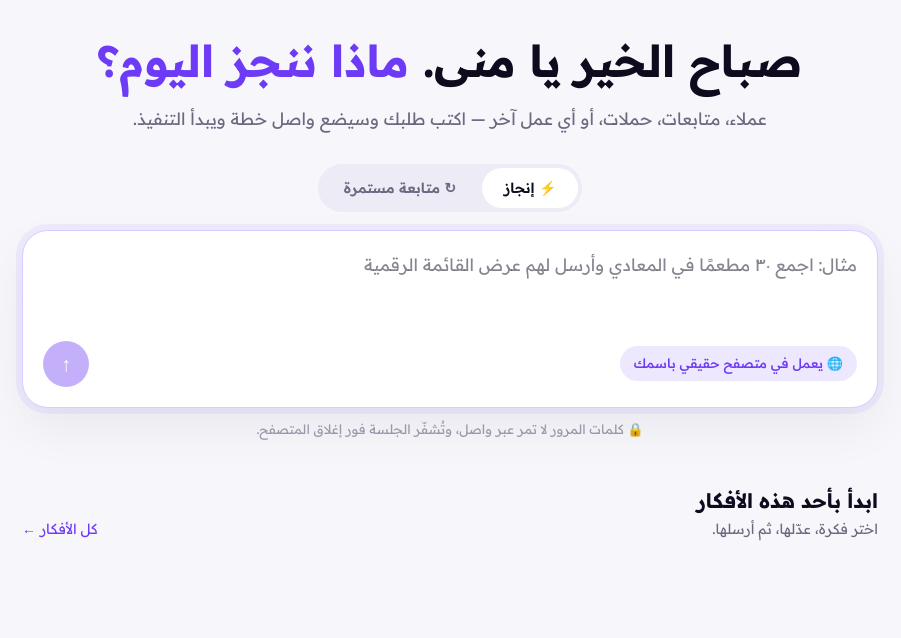
Test: shows the backend error and stays on the page when the run cannot be created
Replace the text in the text box named "طلبك" with "مهمة": (450, 292) [43, 250, 857, 334]
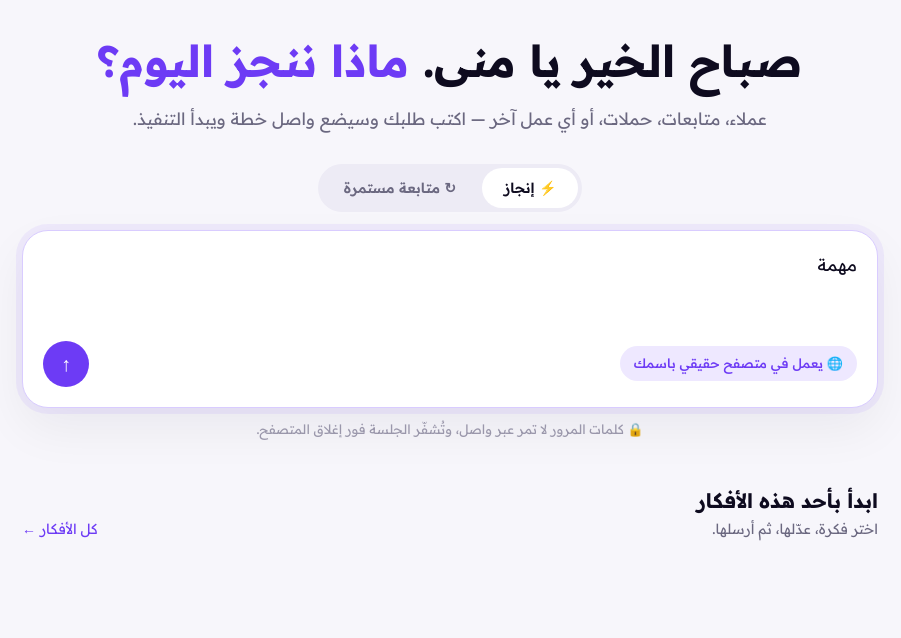
Click the button named "أرسل الطلب": (66, 364) [43, 340, 89, 386]
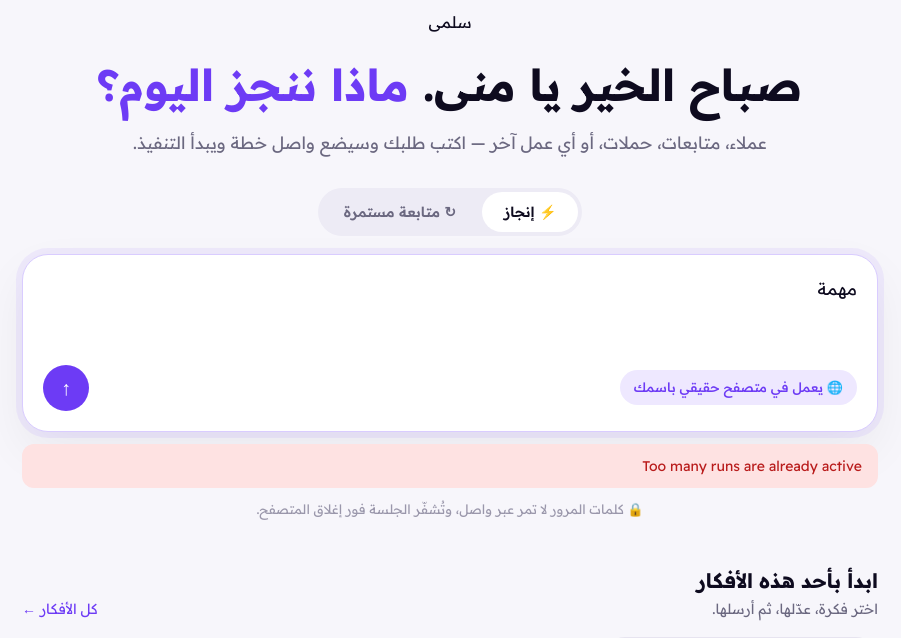
Check: the message shows "Too many runs", box [642, 456, 862, 474]
